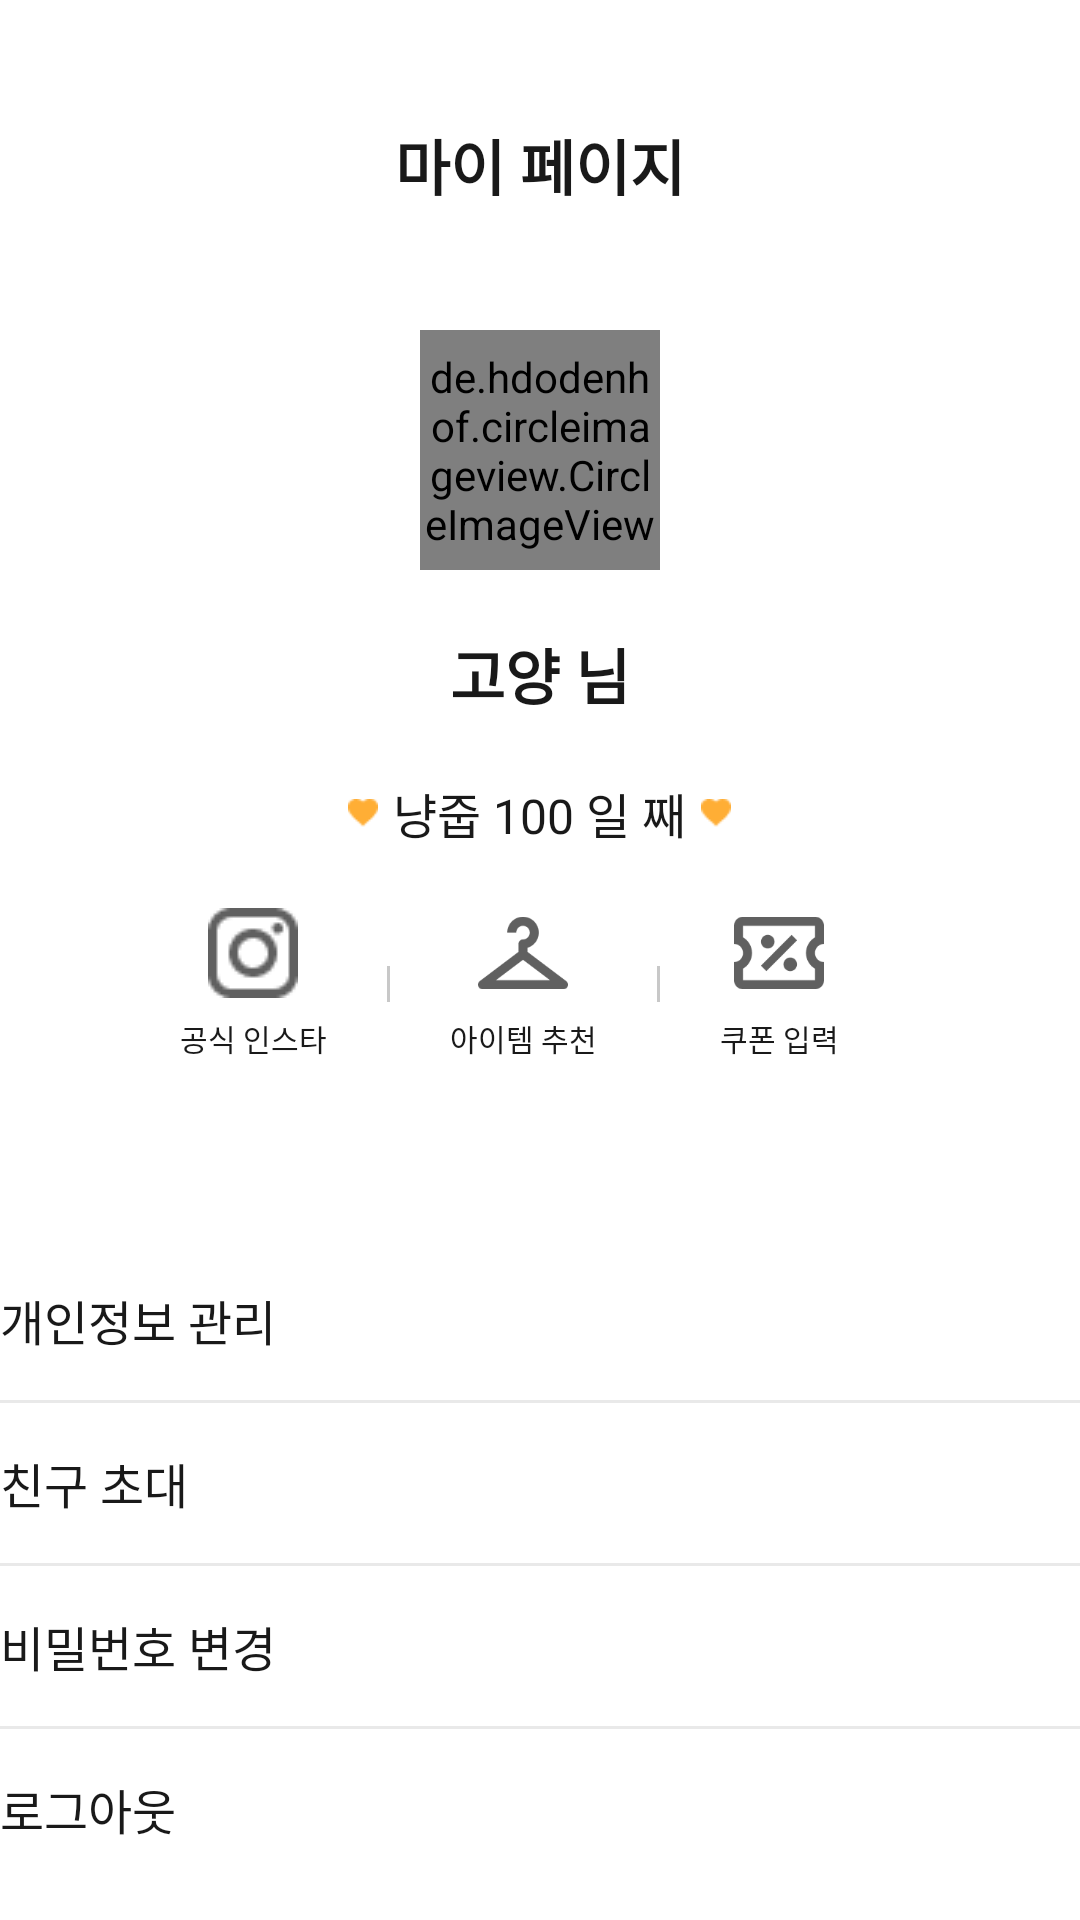

Icons on this 1080x1920 Android screen, each with its box as (x1, y1, x2, y2):
heart: (348, 799, 378, 827), (701, 799, 731, 827)
